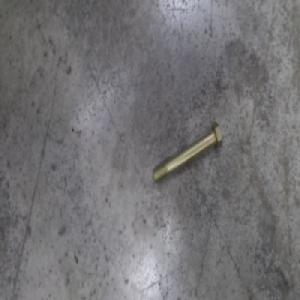Bolt: (151, 120, 223, 185)
